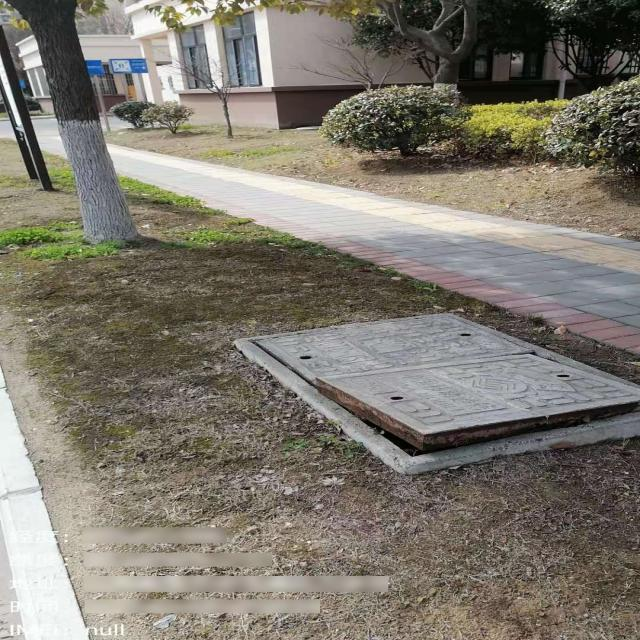Faulty: (231, 311, 640, 471)
